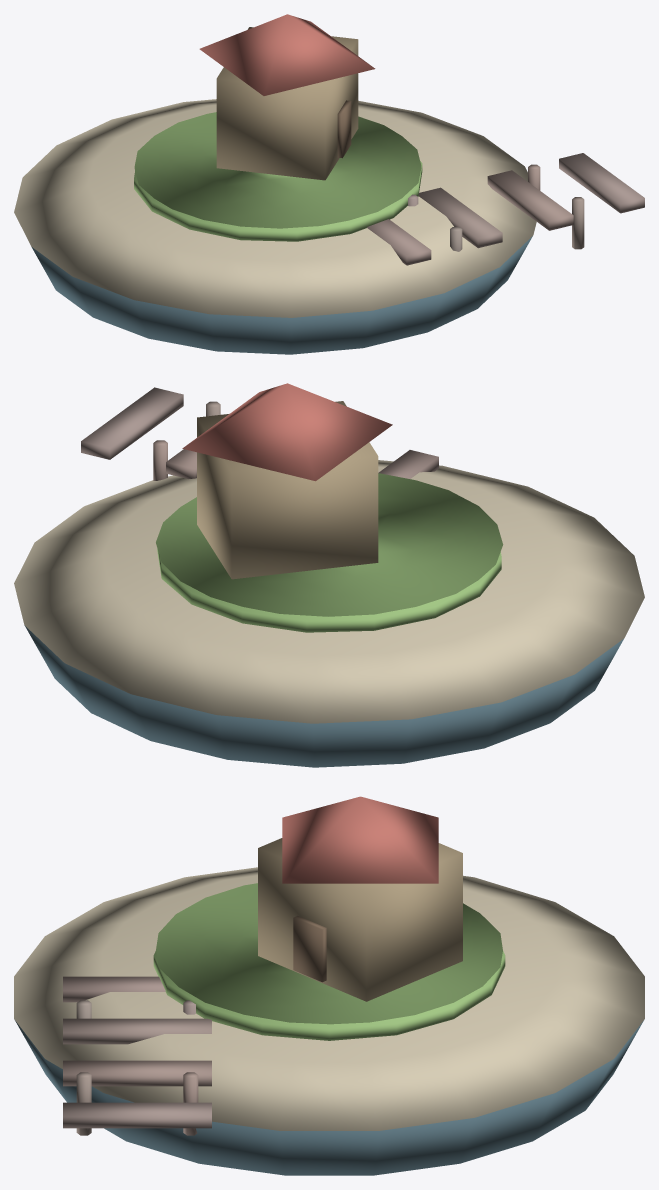
The model's file is terrain_island_16.glb.
3 renders of one model, top to bottom at view 1: azimuth 30°, elevation 25°; view 2: azimuth 150°, elevation 25°; view 3: azimuth 270°, elevation 25°, orthographic. The views are drawn at different scales.
Visible parts, largest first — view 1: island_sand, island_grass_dome, island_base, hut_body, hut_roof, island_grass_base, dock_plank2, dock_plank3, dock_plank1, dock_plank0, hut_door, dock_post2; view 2: island_sand, island_grass_dome, island_base, hut_body, hut_roof, island_grass_base, dock_plank3, dock_plank0, dock_plank2, dock_post3; view 3: island_sand, island_base, island_grass_dome, hut_body, hut_roof, island_grass_base, dock_plank3, dock_plank2, dock_plank1, dock_plank0, hut_door, dock_post2 (+1 smaller).
Boxes of the visible parts, bbox=[...] form: island_sand: bbox=[14, 99, 536, 317]; island_grass_dome: bbox=[134, 112, 421, 228]; island_base: bbox=[31, 236, 532, 354]; hut_body: bbox=[216, 27, 358, 180]; hut_roof: bbox=[199, 14, 375, 95]; island_grass_base: bbox=[134, 161, 422, 241]; dock_plank2: bbox=[487, 170, 573, 230]; dock_plank3: bbox=[559, 153, 644, 213]; dock_plank1: bbox=[418, 187, 502, 248]; dock_plank0: bbox=[367, 219, 431, 265]; hut_door: bbox=[337, 100, 351, 158]; dock_post2: bbox=[572, 197, 584, 249]; island_sand: bbox=[14, 460, 644, 723]; island_grass_dome: bbox=[156, 473, 503, 616]; island_base: bbox=[24, 625, 623, 767]; hut_body: bbox=[197, 401, 378, 579]; hut_roof: bbox=[182, 383, 392, 481]; island_grass_base: bbox=[157, 548, 501, 632]; dock_plank3: bbox=[81, 387, 183, 459]; dock_plank0: bbox=[378, 450, 438, 478]; dock_plank2: bbox=[166, 449, 196, 478]; dock_post3: bbox=[153, 440, 167, 480]; island_sand: bbox=[14, 867, 644, 1130]; island_base: bbox=[14, 1019, 644, 1175]; island_grass_dome: bbox=[156, 883, 502, 1024]; hut_body: bbox=[258, 838, 462, 1001]; hut_roof: bbox=[282, 796, 438, 883]; island_grass_base: bbox=[153, 951, 505, 1040]; dock_plank3: bbox=[63, 1102, 211, 1128]; dock_plank2: bbox=[63, 1060, 211, 1086]; dock_plank1: bbox=[63, 1018, 211, 1044]; dock_plank0: bbox=[63, 976, 165, 1002]; hut_door: bbox=[293, 916, 326, 982]; dock_post2: bbox=[76, 1072, 91, 1135].
Size of the model in its own units: 3.16 by 1.41 by 2.96.
